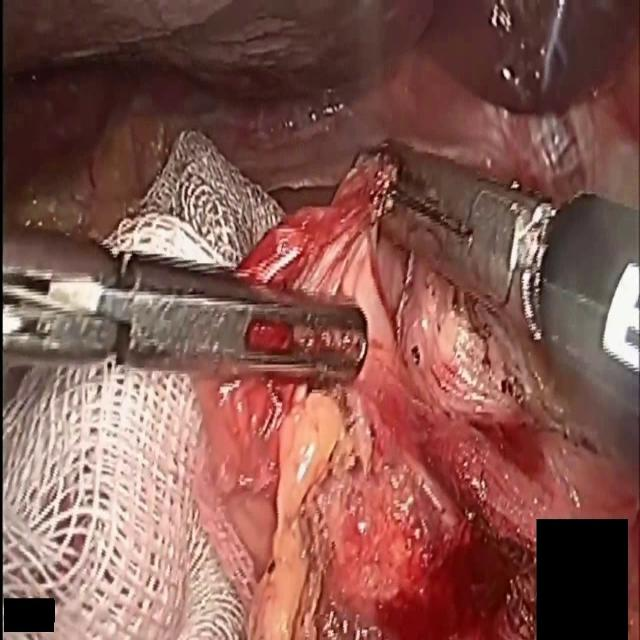surgical-tool: (372, 135, 640, 465), (0, 227, 370, 384)
